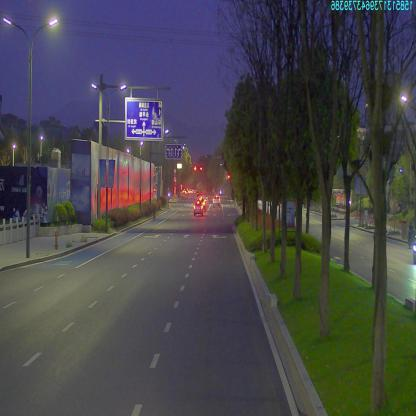traffic-light: (193, 164, 197, 174), (199, 164, 203, 172)
